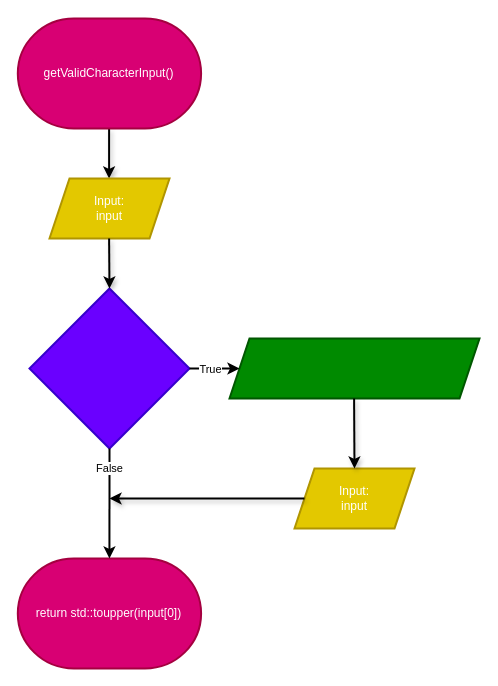
This 498x686 diagram has some shape labels left out. Each missing label, with the centre of its shape:
input.length() != 1 || !std::islpha(input[0]): point (109, 368)
Prompt: "Please enter a valid input (Y/N): ": point (354, 368)
